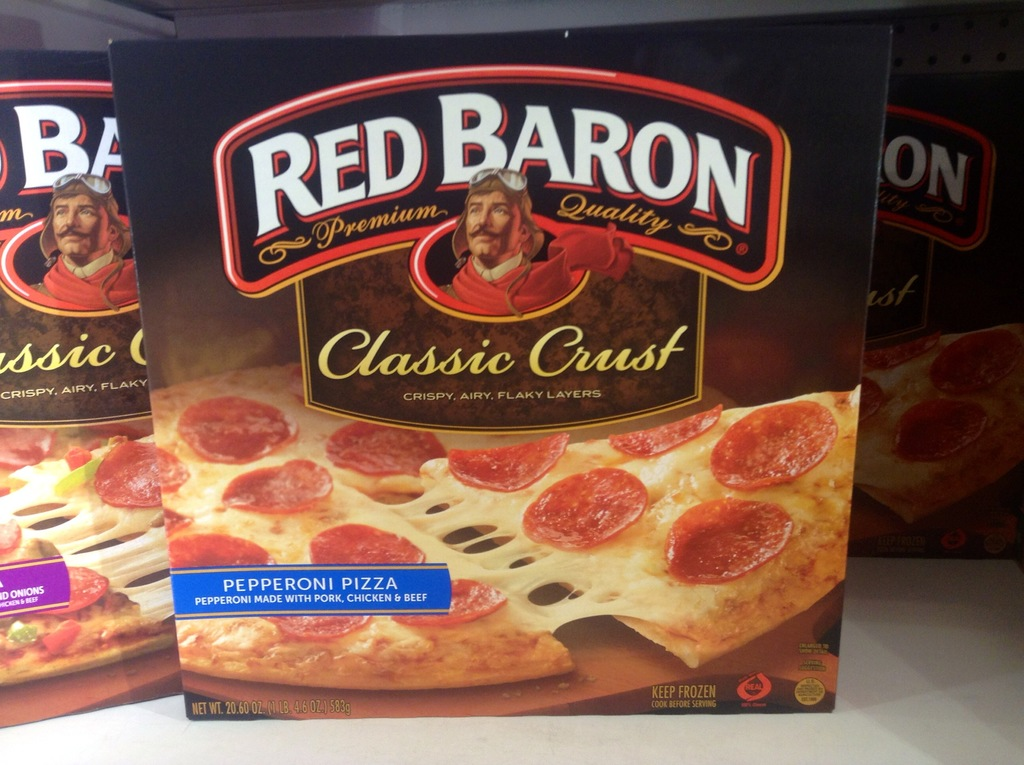Pizza: (150, 387, 573, 700), (419, 384, 858, 667), (1, 423, 176, 689)
